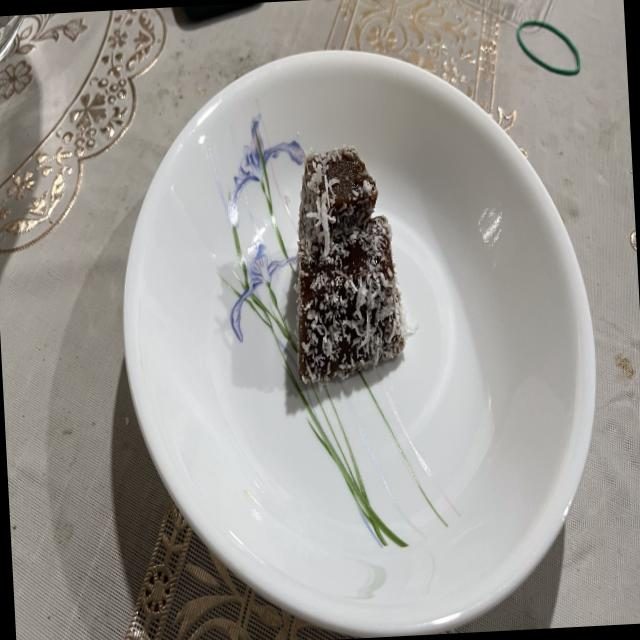kaswi: (294, 214, 407, 384), (298, 143, 379, 261)
